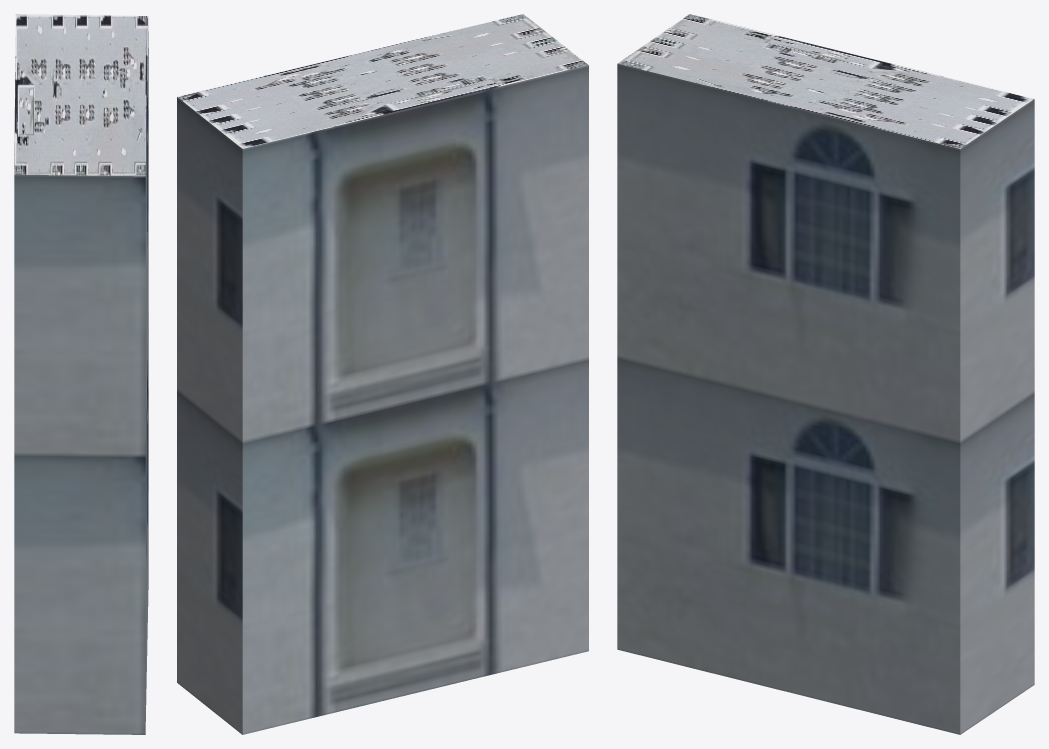
The model's file is ResTex__2771.fbx.
The picture shows the model from 3 angles, left to right: view 1: azimuth 30°, elevation 25°; view 2: azimuth 150°, elevation 25°; view 3: azimuth 270°, elevation 25°; orthographic projection. The views are drawn at different scales.
Parts seen in each view (by area): view 1: CityEngineMaterial_17_m, CityEngineMaterial_8_m; view 2: CityEngineMaterial_17_m, CityEngineMaterial_8_m; view 3: CityEngineMaterial_17_m, CityEngineMaterial_8_m.
Boxes of the visible parts, bbox=[...] form: CityEngineMaterial_17_m: bbox=[14, 31, 148, 734]; CityEngineMaterial_8_m: bbox=[14, 14, 148, 176]; CityEngineMaterial_17_m: bbox=[177, 65, 588, 734]; CityEngineMaterial_8_m: bbox=[177, 14, 588, 148]; CityEngineMaterial_17_m: bbox=[617, 63, 1034, 734]; CityEngineMaterial_8_m: bbox=[618, 14, 1033, 148].
Bounding box in the file's own units: 2.96 × 6 × 3.87.
2 materials, 2 textured.
